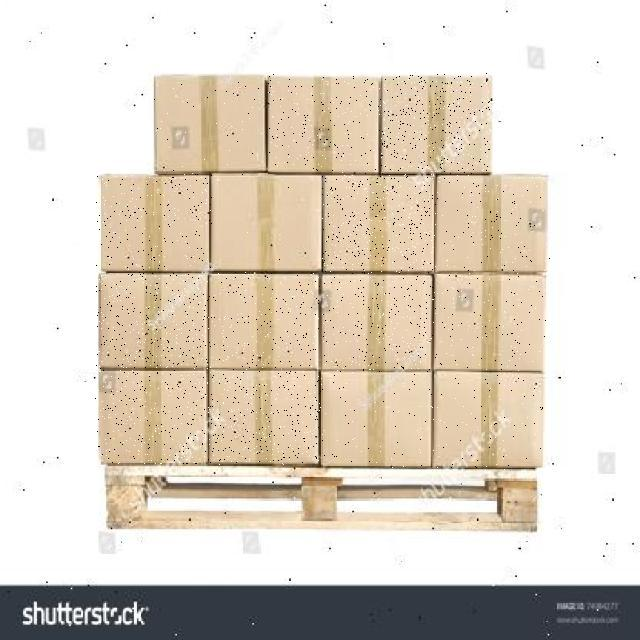BoxFace: (379, 73, 492, 176), (96, 173, 212, 273), (434, 174, 550, 274), (322, 172, 435, 274), (154, 74, 268, 175), (210, 172, 322, 274), (432, 275, 546, 373), (209, 271, 320, 371), (318, 372, 433, 468), (268, 74, 381, 171), (322, 275, 433, 373), (96, 274, 210, 369), (206, 372, 320, 466), (433, 374, 544, 470), (95, 370, 208, 464)
